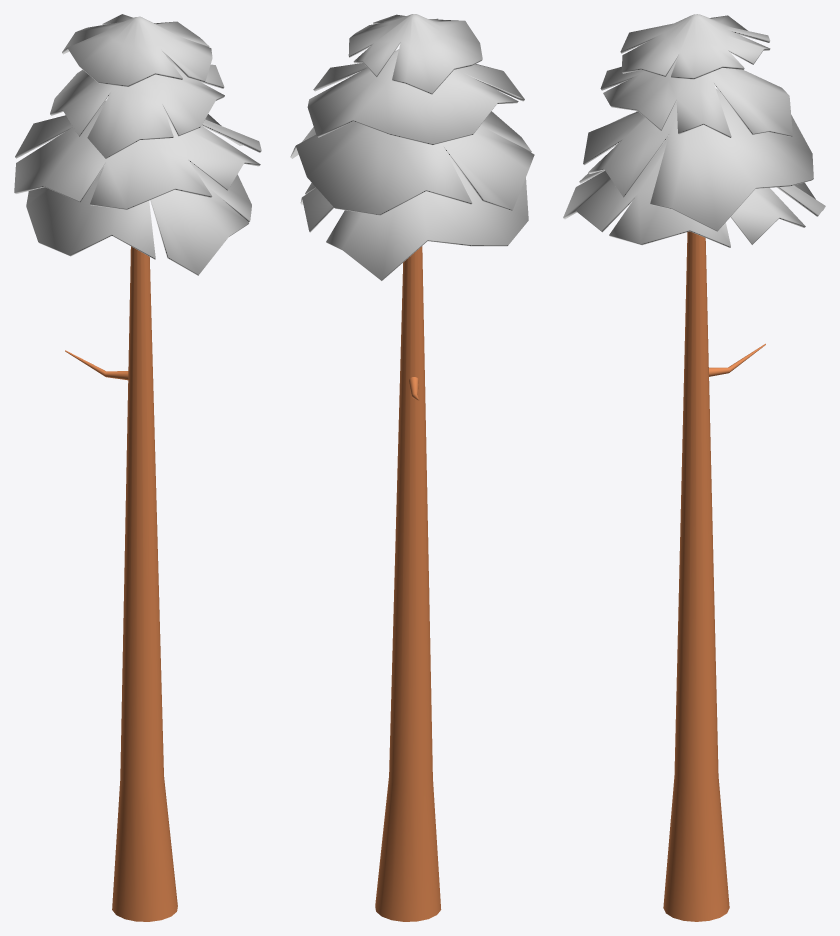
The model's file is Pine.003.fbx.
The picture shows the model from 3 angles, left to right: view 1: azimuth 30°, elevation 25°; view 2: azimuth 150°, elevation 25°; view 3: azimuth 270°, elevation 25°; orthographic projection.
Parts seen in each view (by area): view 1: Long Tree; view 2: Long Tree; view 3: Long Tree.
Part boxes in pixels (<box>): Long Tree: <box>14,14,261,921</box>; Long Tree: <box>290,14,534,921</box>; Long Tree: <box>563,14,825,921</box>.
Size of the model in its own units: 360 by 1367 by 365.
